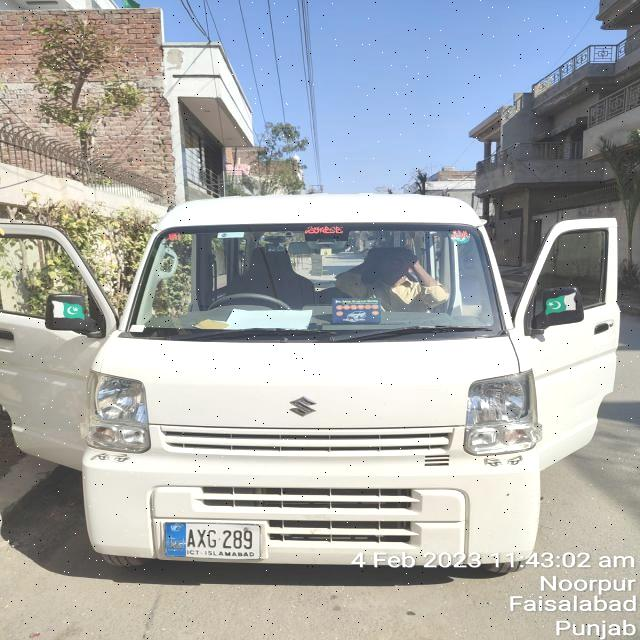licenseplate: (152, 512, 279, 570)
